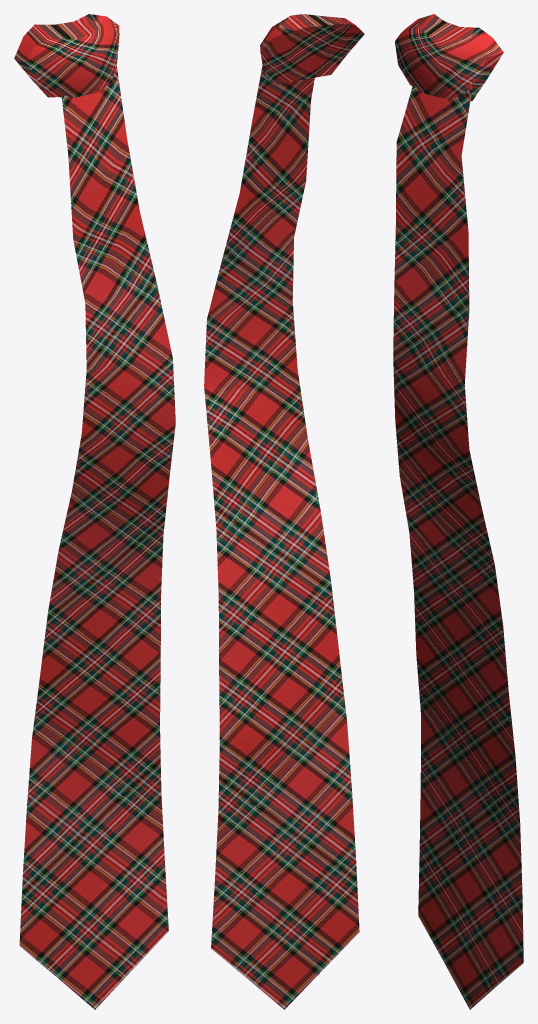
Rendered from Pose-7_Tie-1.fbx.
3 renders of one model, left to right at view 1: azimuth 30°, elevation 25°; view 2: azimuth 210°, elevation 25°; view 3: azimuth 330°, elevation 25°, orthographic.
Visible parts, largest first — view 1: Pose-7_Tie-1; view 2: Pose-7_Tie-1; view 3: Pose-7_Tie-1.
Part boxes in pixels (x1=…): Pose-7_Tie-1: x1=14, y1=14, x2=175, y2=1009; Pose-7_Tie-1: x1=204, y1=14, x2=364, y2=1009; Pose-7_Tie-1: x1=393, y1=14, x2=523, y2=1009.
Size of the model in its own units: 7.36 by 49.68 by 4.87.
